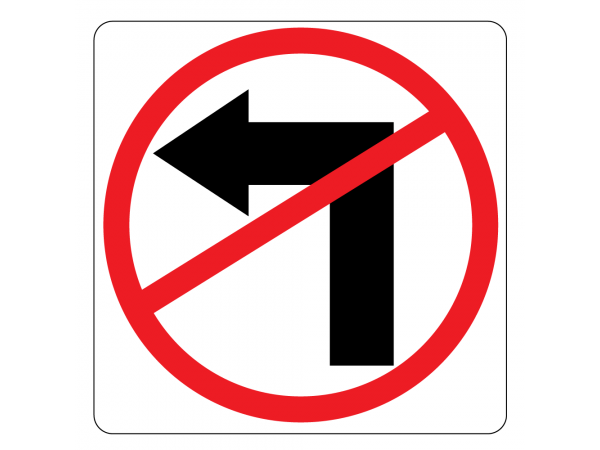No_left_turn: (103, 26, 498, 423)
